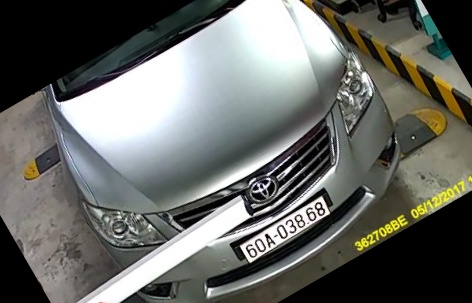plate: (238, 180, 326, 273)
